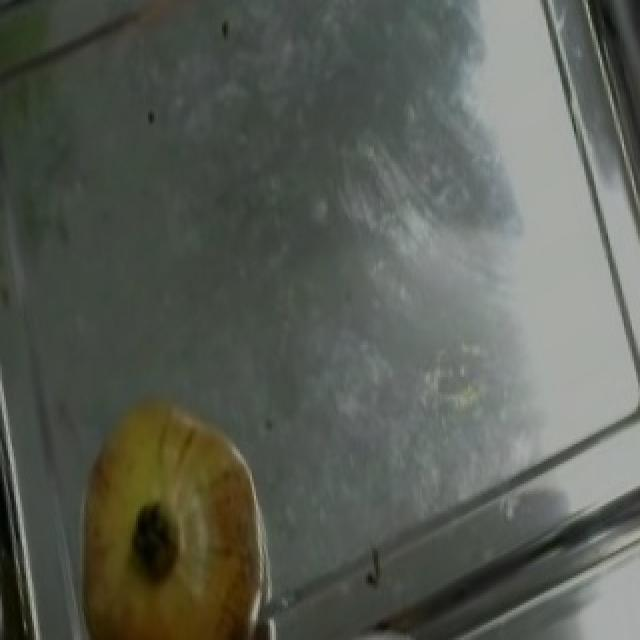fruit: (42, 370, 292, 638)
